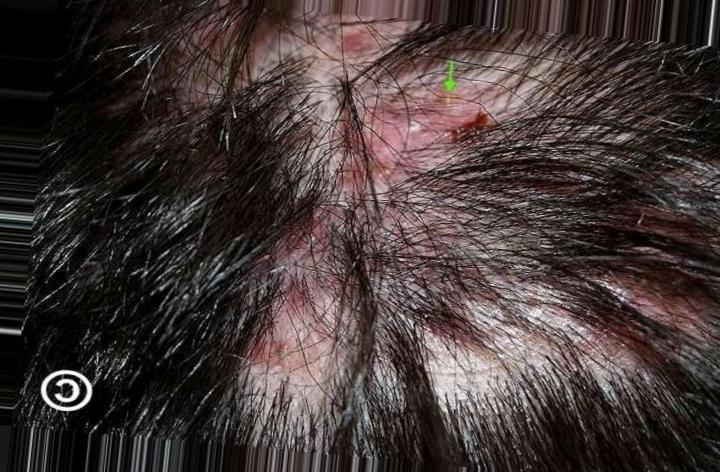Folliculitis: (228, 15, 588, 439)
